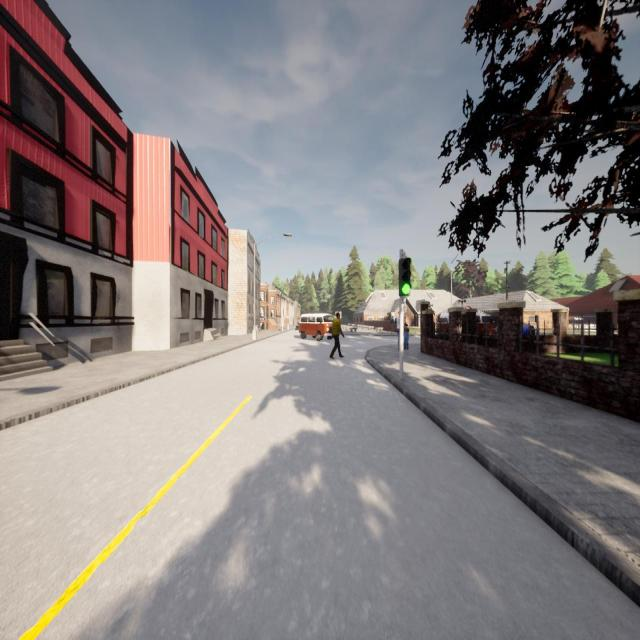Pedestrian: (330, 311, 344, 359), (404, 322, 410, 350), (396, 312, 400, 350), (390, 314, 396, 336)
Traffic_Signs: (465, 305, 472, 310)
Vehicle: (439, 311, 494, 336), (299, 313, 334, 340), (523, 322, 536, 336)
traffic_light: (399, 258, 411, 296)
